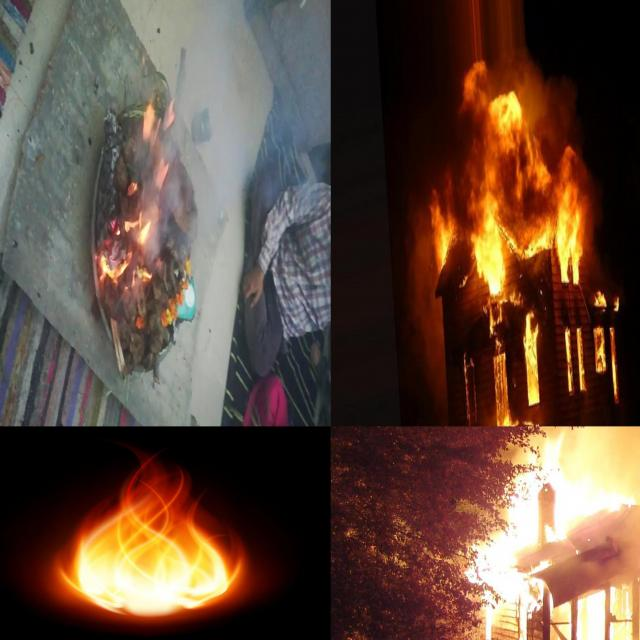fire: (50, 450, 240, 616), (494, 426, 640, 639), (458, 71, 584, 302), (183, 309, 229, 392), (234, 349, 272, 426), (428, 180, 454, 282), (525, 319, 541, 405), (566, 323, 584, 394), (498, 358, 515, 426), (588, 326, 608, 378), (610, 330, 620, 410), (592, 288, 624, 311)
smoke: (128, 144, 252, 355)
